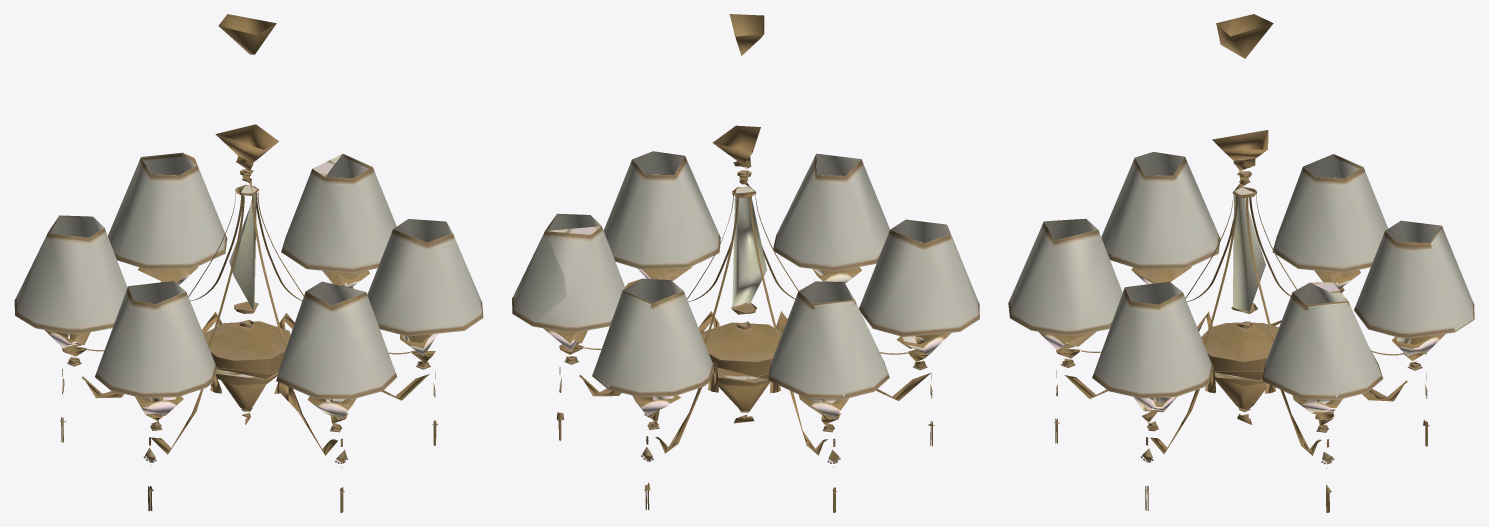
Rendered from chandelier.low.glb.
The picture shows the model from 3 angles, left to right: view 1: azimuth 30°, elevation 25°; view 2: azimuth 150°, elevation 25°; view 3: azimuth 270°, elevation 25°; orthographic projection.
Parts seen in each view (by area): view 1: Chandelier_01; view 2: Chandelier_01; view 3: Chandelier_01.
Boxes of the visible parts, box(x1,y1,x2,y2) form: Chandelier_01: box(14, 14, 483, 512); Chandelier_01: box(512, 14, 979, 512); Chandelier_01: box(1008, 14, 1474, 512).
Bounding box in the file's own units: 0.7408 × 0.7983 × 0.8084.
2 materials, 1 textured.
